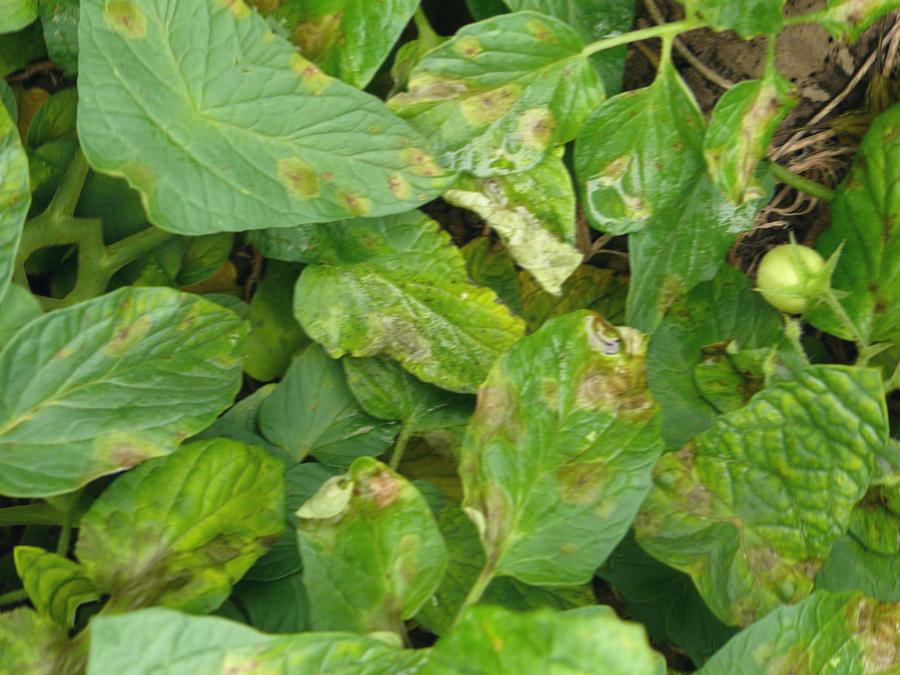Tomato leaf late blight: (78, 0, 516, 436), (380, 266, 746, 634), (0, 209, 298, 585), (259, 131, 582, 450), (27, 372, 340, 675), (216, 405, 517, 675), (351, 0, 652, 248), (524, 28, 759, 266), (656, 45, 848, 239)
